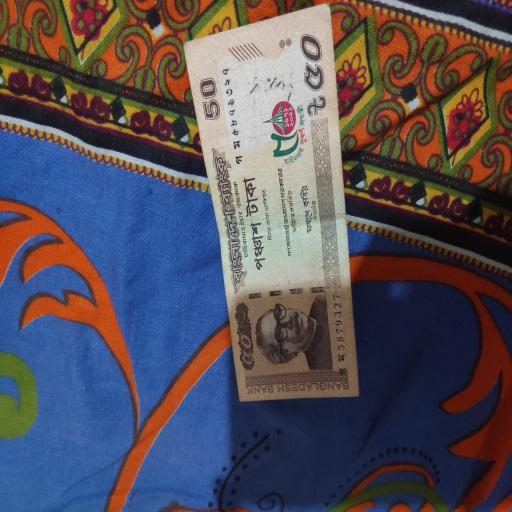50taka: (182, 6, 358, 405)
